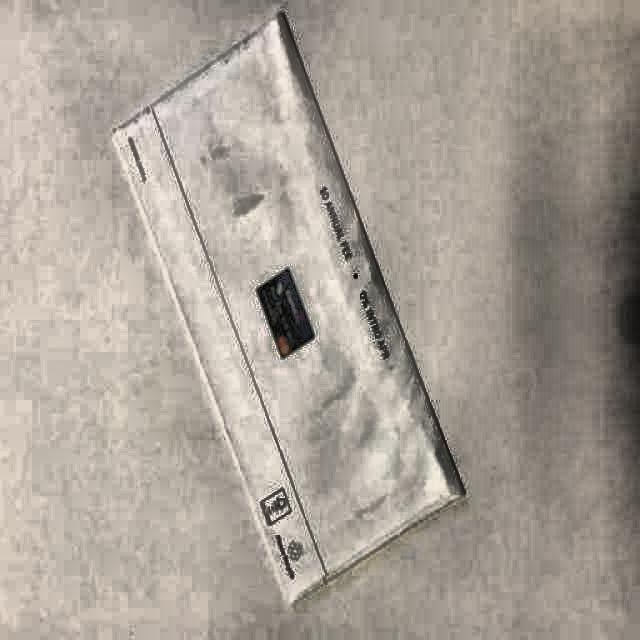Paper: (114, 13, 465, 597)
